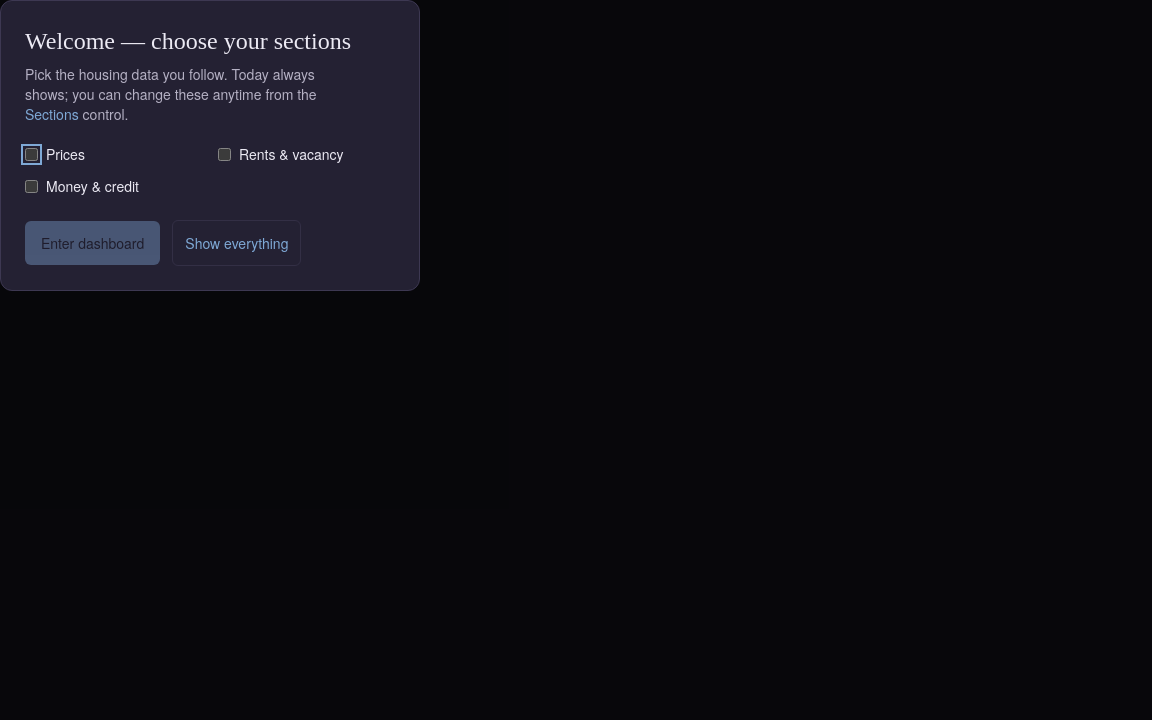
Test case: "Enter dashboard" is disabled until at least one section is checked
This screenshot has width=1152, height=720.
Expected: the button "Enter dashboard" is disabled, x1=25 y1=221 x2=160 y2=265
Click the checkbox labelled "Prices" at (32, 154), box x1=25 y1=148 x2=38 y2=160
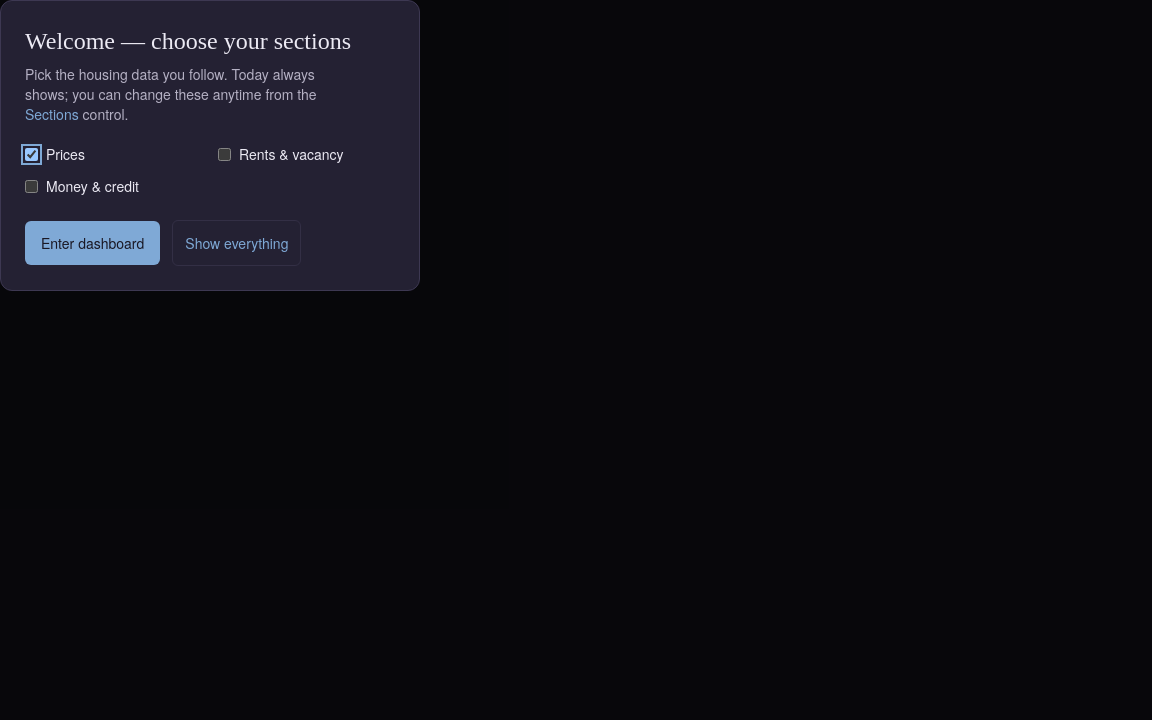
Now the button "Enter dashboard" is enabled, box x1=25 y1=221 x2=160 y2=265
